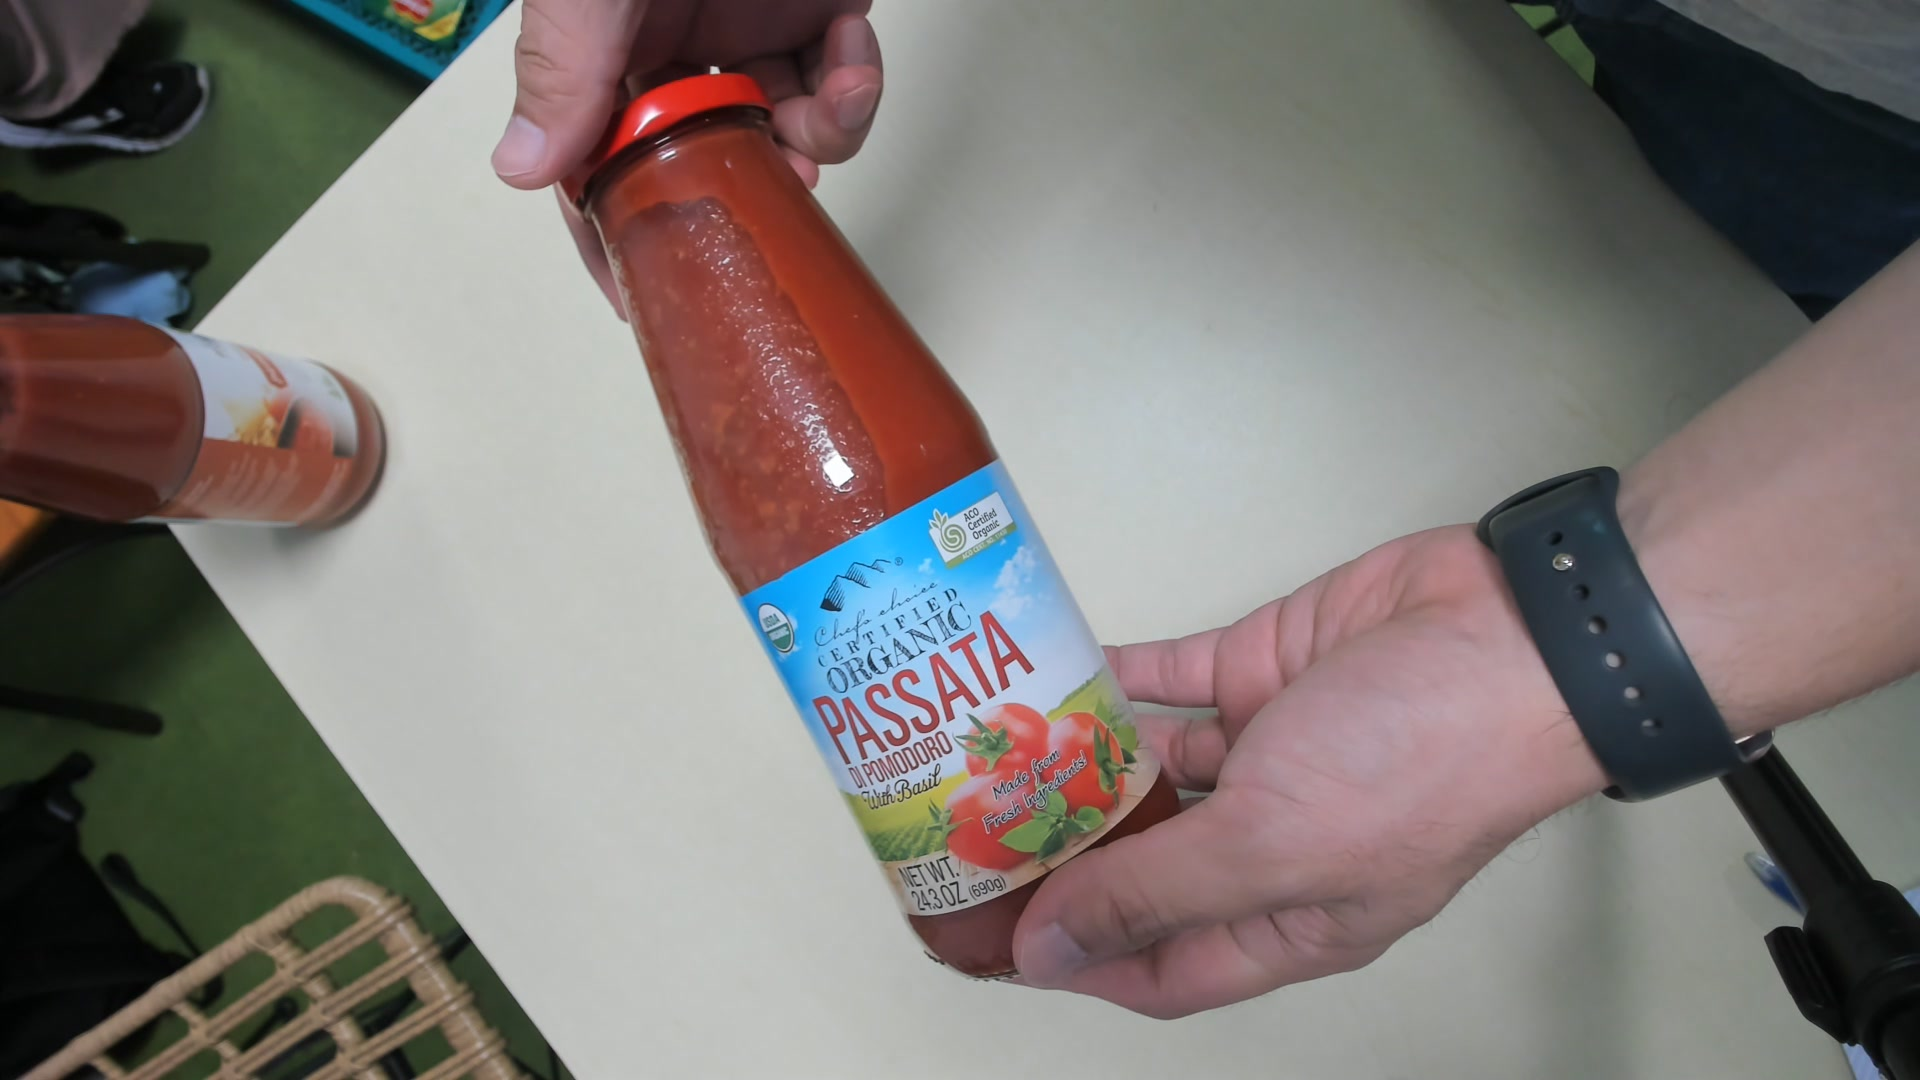PastaSauce_600-699g_NonHalal_NonHealthy: (560, 59, 1184, 982)
